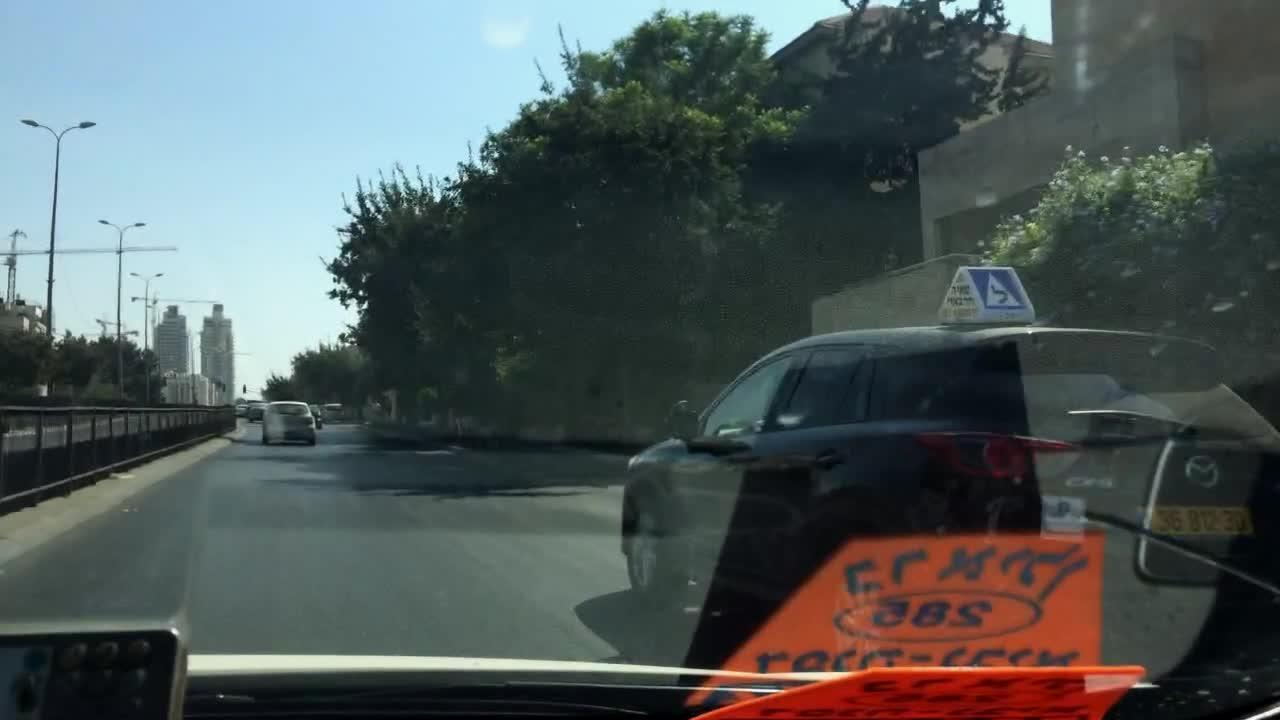Mazda: (1176, 443, 1231, 492)
